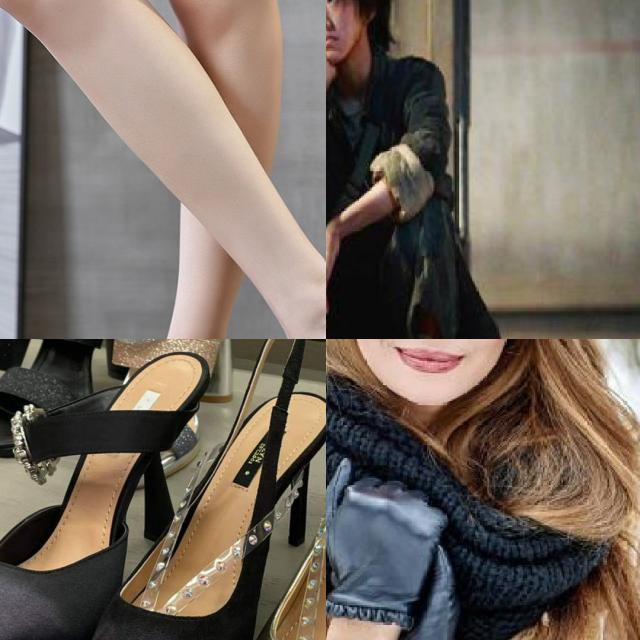Sandals: (47, 339, 326, 640), (0, 339, 216, 640), (220, 339, 326, 640), (43, 254, 326, 339)
face_nomask: (347, 339, 506, 403), (326, 0, 372, 53)
hand_glove: (326, 455, 449, 604), (379, 546, 472, 640)
hand_noglove: (326, 224, 339, 338), (326, 29, 335, 85)
person: (326, 339, 640, 640), (326, 0, 485, 339)
